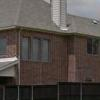Chimney: (47, 0, 73, 28)
